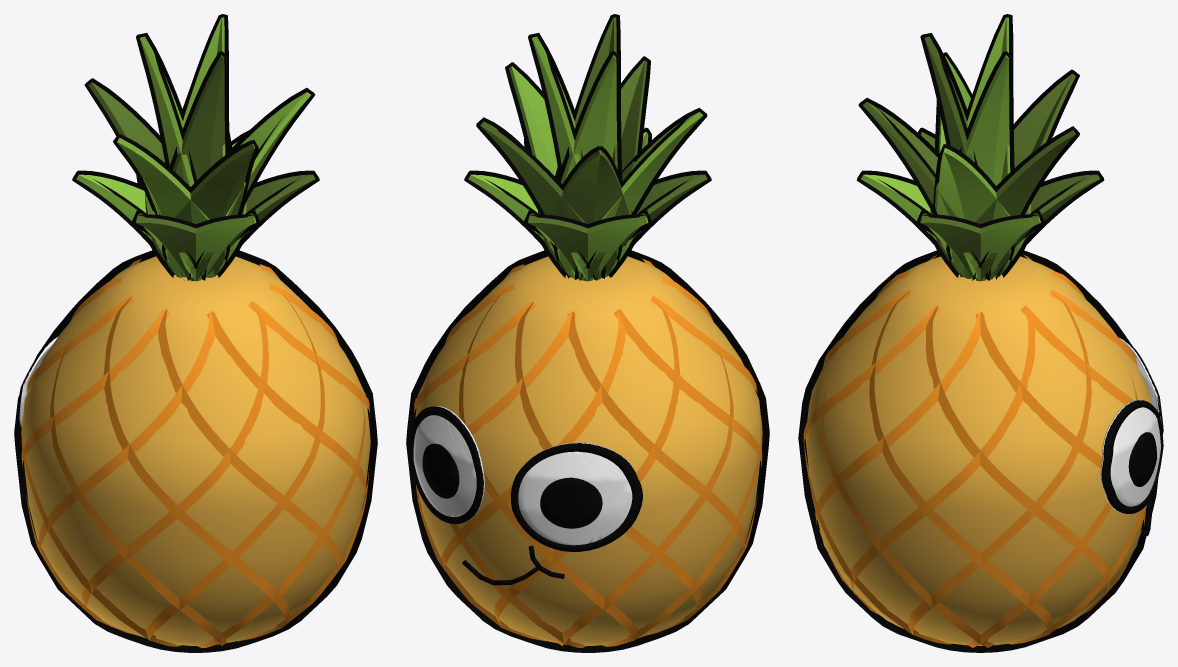
Rendered from Pineapple.glb.
3 renders of one model, left to right at view 1: azimuth 30°, elevation 25°; view 2: azimuth 150°, elevation 25°; view 3: azimuth 270°, elevation 25°, orthographic.
Parts seen in each view (by area): view 1: Body, Lattice, Crown, CrownLight, Outline, CrownRim, OuterSpike4, OuterSpike5, OuterSpike6, OuterSpike3, OuterSpikeRim6, OuterSpikeRim3; view 2: Body, Lattice, Outline, Eyes, CrownLight, Crown, CrownRim, OuterSpike6, OuterSpike1, OuterSpike2, OuterSpike5, OuterSpikeRim2 (+1 smaller); view 3: Body, Lattice, Outline, Crown, CrownLight, CrownRim, Eyes, OuterSpike3, OuterSpike2, OuterSpike1, OuterSpike4, OuterSpikeRim1 (+1 smaller).
Part boxes in pixels (x1,y1,x2,y2): Body: (21, 256, 370, 645); Lattice: (21, 259, 370, 647); Crown: (88, 55, 254, 280); CrownLight: (117, 17, 310, 280); Outline: (14, 250, 377, 652); CrownRim: (84, 14, 315, 281); OuterSpike4: (165, 213, 256, 277); OuterSpike5: (135, 213, 226, 276); OuterSpike6: (76, 174, 200, 281); OuterSpike3: (191, 174, 315, 281); OuterSpikeRim6: (72, 170, 204, 280); OuterSpikeRim3: (187, 170, 319, 280); Body: (415, 256, 762, 645); Lattice: (414, 259, 762, 647); Outline: (406, 250, 769, 652); Eyes: (413, 406, 632, 545); CrownLight: (509, 36, 703, 280); Crown: (480, 17, 647, 279); CrownRim: (476, 14, 707, 280); OuterSpike6: (557, 213, 648, 275); OuterSpike1: (527, 213, 618, 276); OuterSpike2: (468, 174, 592, 281); OuterSpike5: (583, 174, 707, 281); OuterSpikeRim2: (464, 170, 596, 280); Body: (805, 256, 1151, 645); Lattice: (803, 255, 1145, 647); Outline: (798, 250, 1163, 652); Crown: (862, 36, 1075, 280); CrownLight: (937, 17, 1010, 277); CrownRim: (858, 14, 1079, 280); Eyes: (1100, 337, 1161, 511); OuterSpike3: (920, 213, 1011, 277); OuterSpike2: (950, 213, 1040, 275); OuterSpike1: (976, 174, 1099, 281); OuterSpike4: (861, 174, 985, 281); OuterSpikeRim1: (972, 170, 1104, 280).
Bounding box in the file's own units: 1.86 × 3.38 × 1.86.
